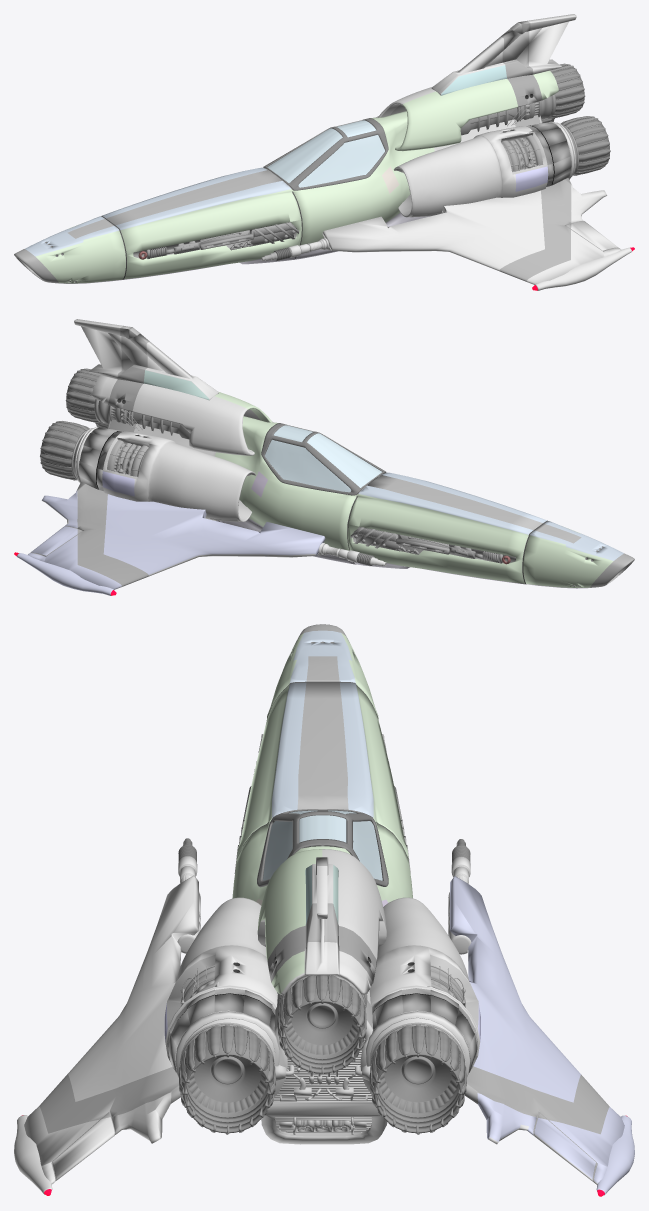
Rendered from mark2.fbx.
3 renders of one model, top to bottom at view 1: azimuth 30°, elevation 25°; view 2: azimuth 150°, elevation 25°; view 3: azimuth 270°, elevation 25°, orthographic. The views are drawn at different scales.
Parts seen in each view (by area): view 1: Layer 1, Layer 6, Layer 2, Layer 3, Layer 4; view 2: Layer 1, Layer 9, Layer 2, Layer 3, Layer 4; view 3: Layer 3, Layer 1, Layer 9, Layer 2, Layer 6, Layer 4.
Part boxes in pixels (x1,y1,x2,y2): Layer 1: (14,111,542,283); Layer 6: (261,178,634,290); Layer 2: (378,14,585,151); Layer 3: (376,116,610,217); Layer 4: (263,118,388,190); Layer 1: (107,416,634,588); Layer 9: (14,482,386,595); Layer 2: (65,319,272,455); Layer 3: (40,421,273,521); Layer 4: (261,423,386,495); Layer 3: (164,897,480,1134); Layer 1: (232,624,412,1144); Layer 9: (448,839,634,1196); Layer 2: (257,849,386,1074); Layer 6: (14,838,200,1195); Layer 4: (257,809,388,887).
Bounding box in the file's own units: 300 × 97.27 × 166.
